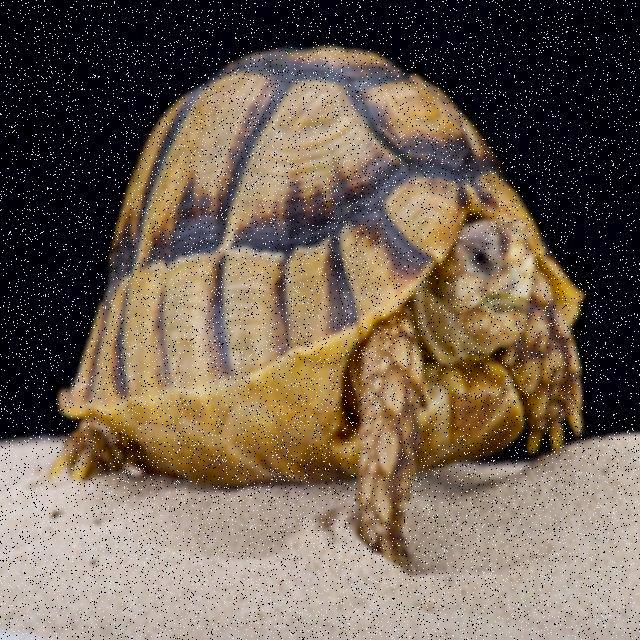tortoise: (49, 43, 584, 554)
